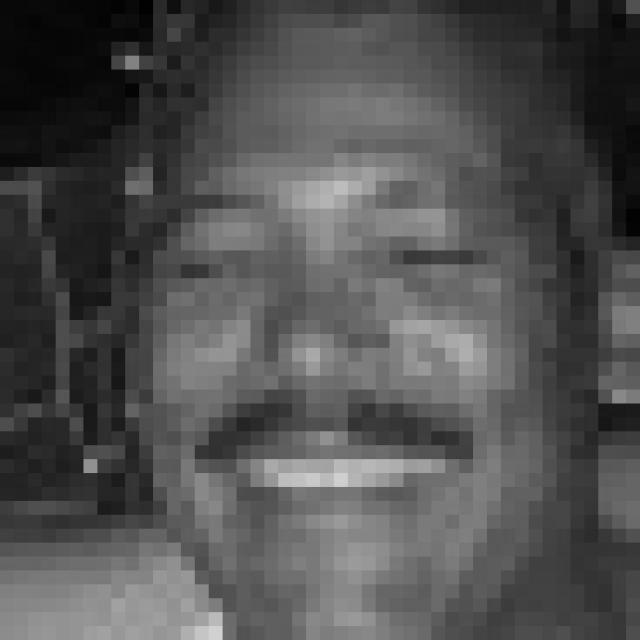real: (124, 38, 526, 604), (154, 198, 536, 319)
